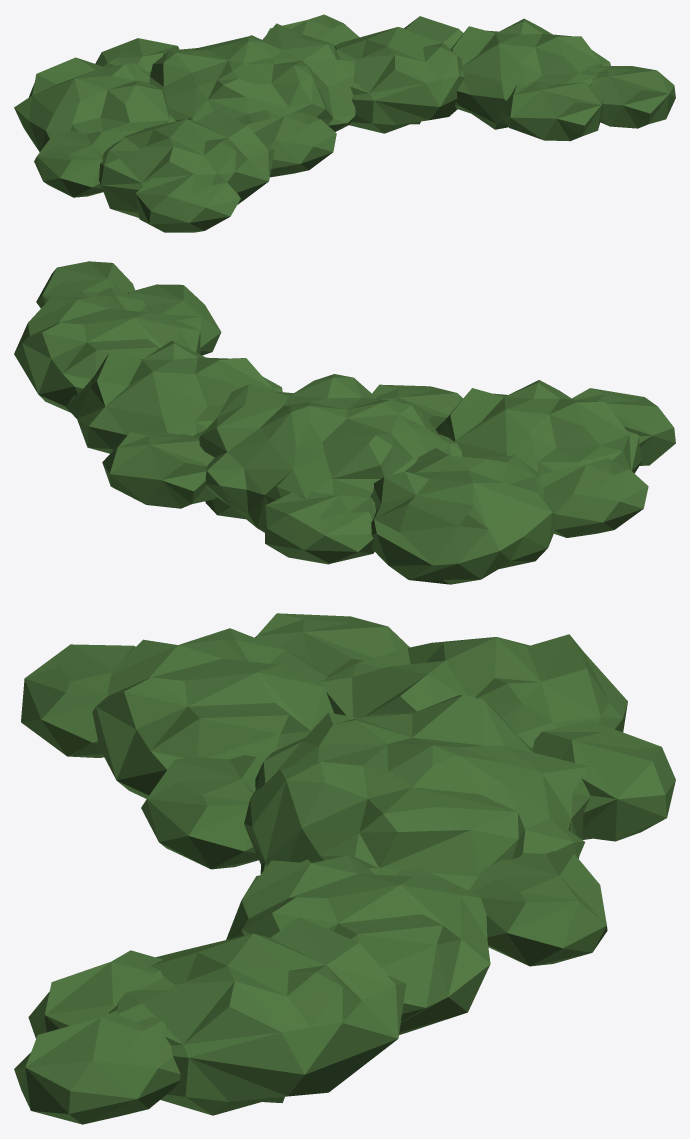
File: SM_Env_Tree_Canopy_04.glb
3 renders of one model, top to bottom at view 1: azimuth 30°, elevation 25°; view 2: azimuth 150°, elevation 25°; view 3: azimuth 270°, elevation 25°, orthographic. The views are drawn at different scales.
Visible parts, largest first — view 1: SM_Env_Tree_Canopy_04_part00; view 2: SM_Env_Tree_Canopy_04_part00; view 3: SM_Env_Tree_Canopy_04_part00.
Boxes of the visible parts, bbox=[...] form: SM_Env_Tree_Canopy_04_part00: bbox=[14, 14, 675, 232]; SM_Env_Tree_Canopy_04_part00: bbox=[14, 261, 675, 584]; SM_Env_Tree_Canopy_04_part00: bbox=[14, 613, 675, 1124].
Bounding box in the file's own units: 24.65 × 4.54 × 14.57.
1 material, 1 textured.
